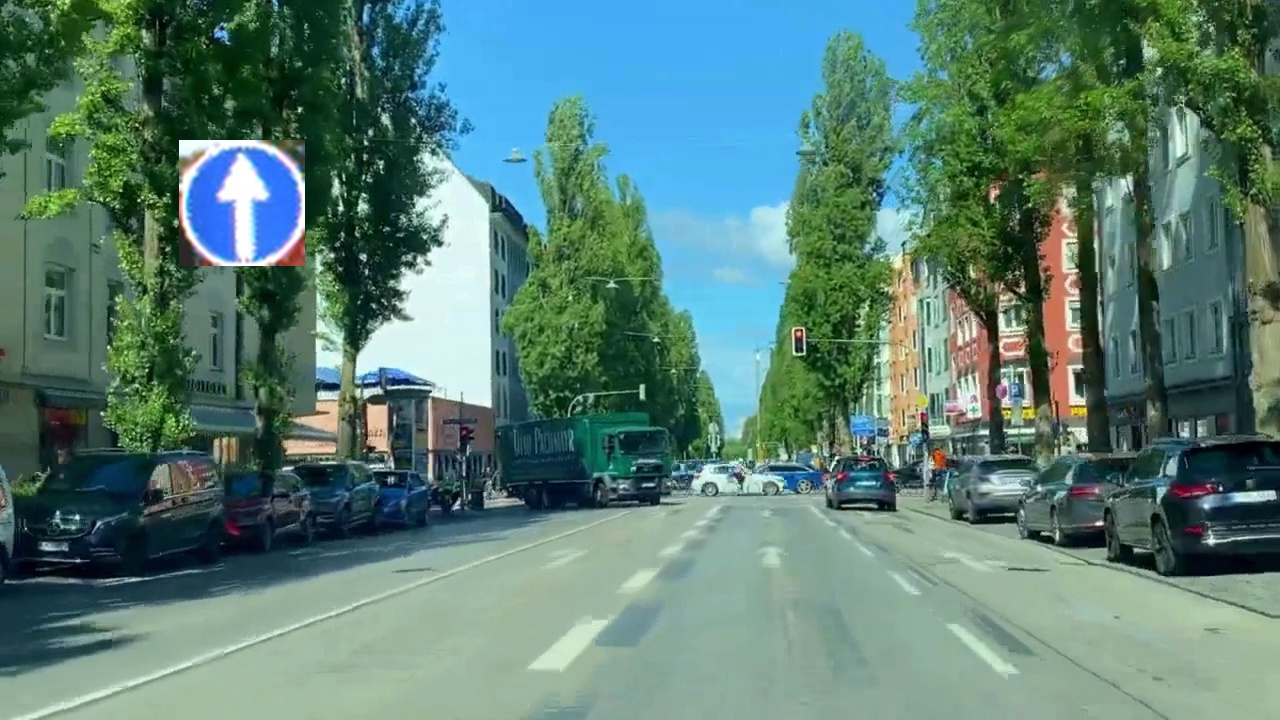Ahead only: (179, 140, 305, 266)
